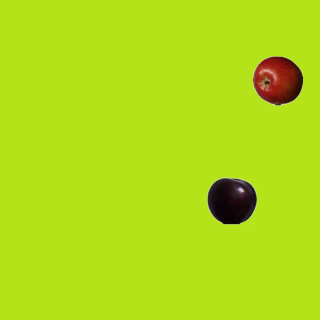Apple Braeburn: (252, 55, 302, 105)
Cherry Wax Black: (206, 175, 256, 225)
